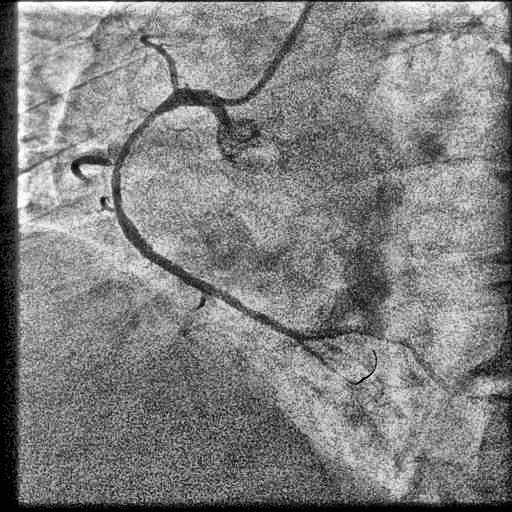pborca: (303, 325, 442, 383)
pda: (298, 337, 381, 385)
rca: (111, 88, 298, 338)
